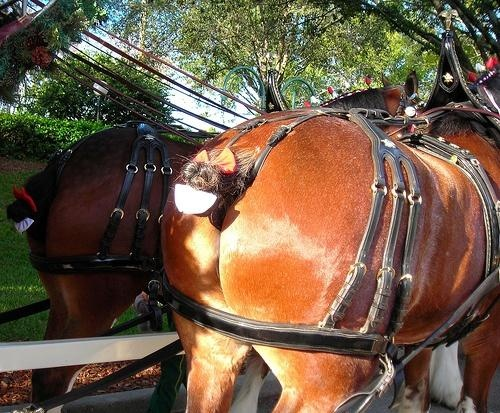horse: (6, 70, 419, 412), (159, 106, 500, 413)
